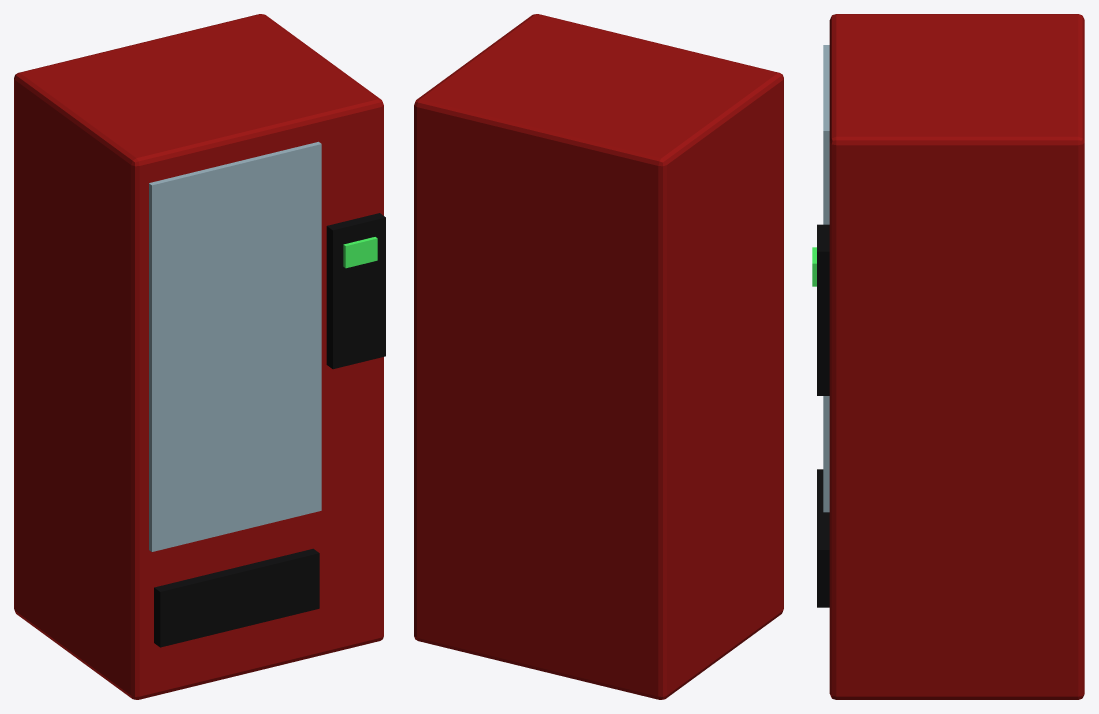
Rendered from vending_machine.glb.
3 views of the same model, side by side, from view 1: azimuth 30°, elevation 25°; view 2: azimuth 150°, elevation 25°; view 3: azimuth 270°, elevation 25° (orthographic). The views are drawn at different scales.
Visible parts, largest first — view 1: vending_machine; view 2: vending_machine; view 3: vending_machine.
Part boxes in pixels (x1=…): vending_machine: x1=14, y1=14, x2=385, y2=699; vending_machine: x1=414, y1=14, x2=783, y2=699; vending_machine: x1=812, y1=14, x2=1084, y2=699.
Bounding box in the file's own units: 0.95 × 1.95 × 0.855.
Materials: 1 (1 with a texture image).
